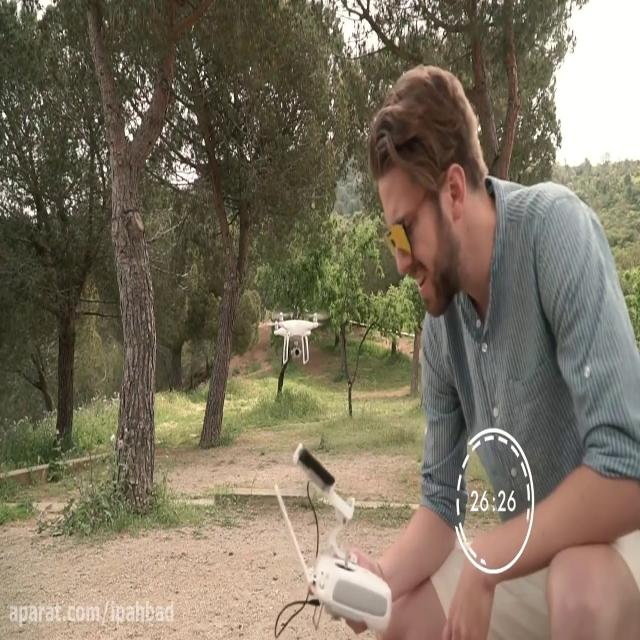drone: (266, 302, 332, 364)
